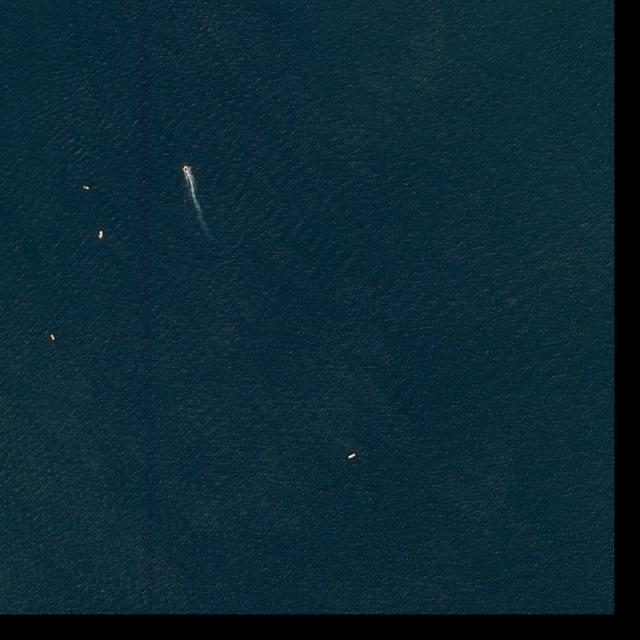ship: (346, 452, 357, 460), (49, 333, 57, 342), (183, 164, 190, 174), (98, 230, 103, 239), (83, 186, 90, 190)
